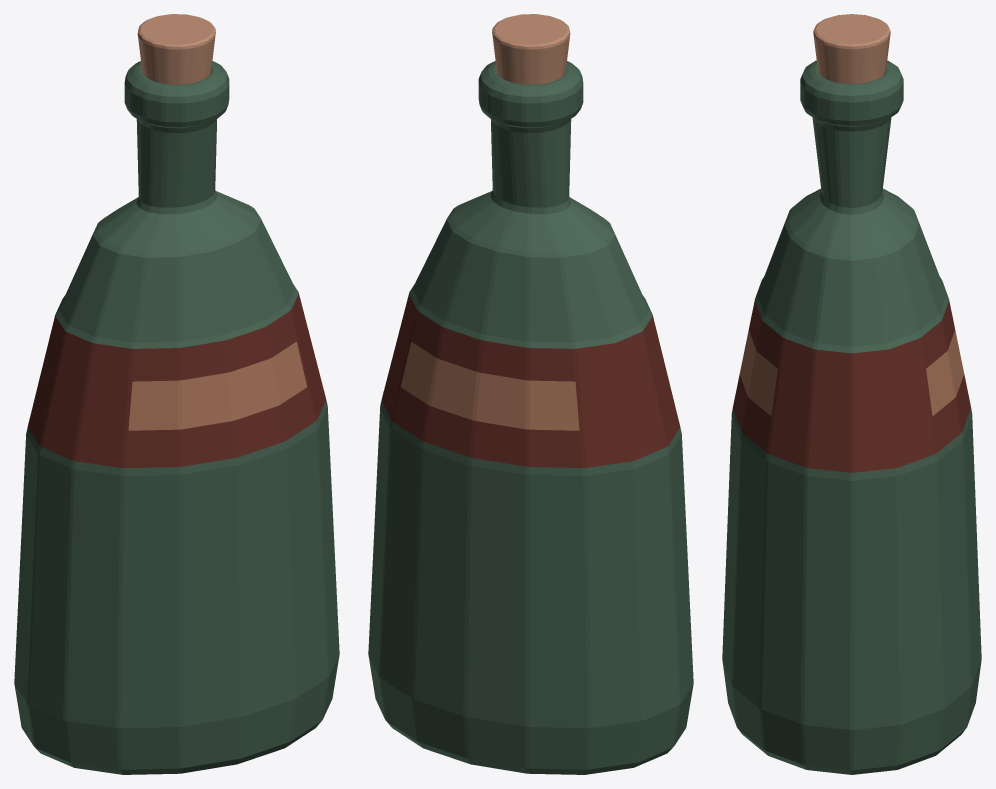
The model's file is alcohol_bottle_1_partyassetst.fbx.
3 renders of one model, left to right at view 1: azimuth 30°, elevation 25°; view 2: azimuth 150°, elevation 25°; view 3: azimuth 270°, elevation 25°, orthographic.
Parts seen in each view (by area): view 1: alcohol_bottle_1_partyassetst, Cube.033, Cube.020, Cube.031; view 2: alcohol_bottle_1_partyassetst, Cube.033, Cube.020, Cube.031; view 3: alcohol_bottle_1_partyassetst, Cube.033, Cube.031, Cube.020.
Part boxes in pixels (bbox=[...]): alcohol_bottle_1_partyassetst: bbox=[14, 61, 339, 774]; Cube.033: bbox=[27, 293, 325, 467]; Cube.020: bbox=[128, 342, 307, 430]; Cube.031: bbox=[137, 14, 215, 84]; alcohol_bottle_1_partyassetst: bbox=[368, 61, 693, 774]; Cube.033: bbox=[382, 293, 680, 467]; Cube.020: bbox=[400, 342, 579, 430]; Cube.031: bbox=[492, 14, 570, 84]; alcohol_bottle_1_partyassetst: bbox=[722, 60, 981, 774]; Cube.033: bbox=[733, 300, 970, 472]; Cube.031: bbox=[813, 14, 890, 83]; Cube.020: bbox=[740, 329, 963, 416].
Bounding box in the file's own units: 14.53 × 32.25 × 11.14.
